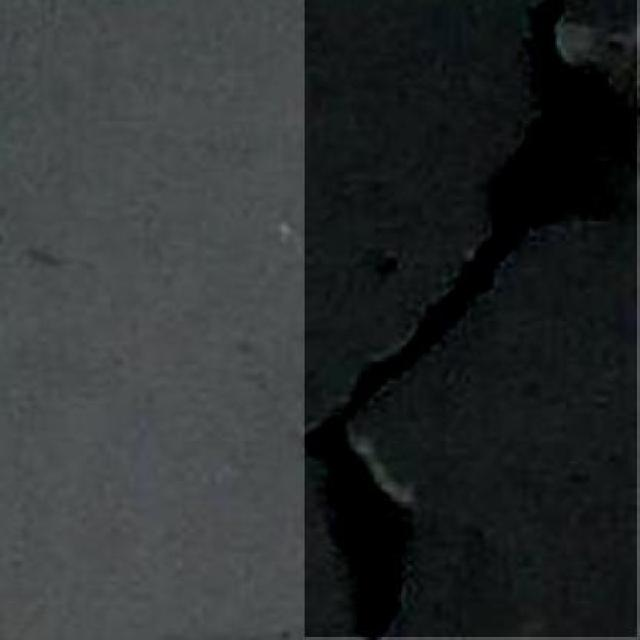Crack: (294, 0, 636, 640)
